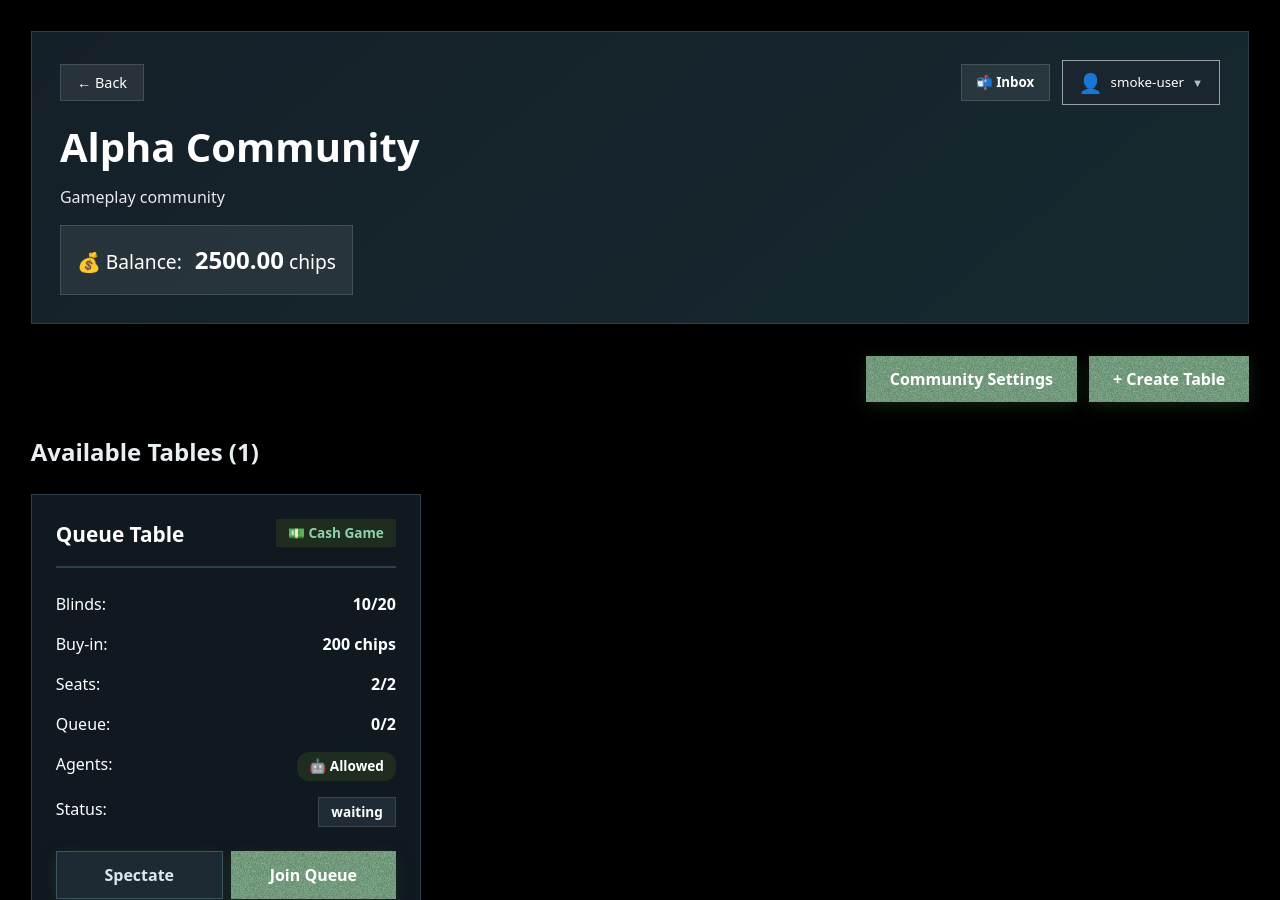
CommunityLobbyPage behavior › opens the queue modal in queue mode and loads queue details
Click the button with test id "join-queue-button": (313, 875) [231,851,396,899]
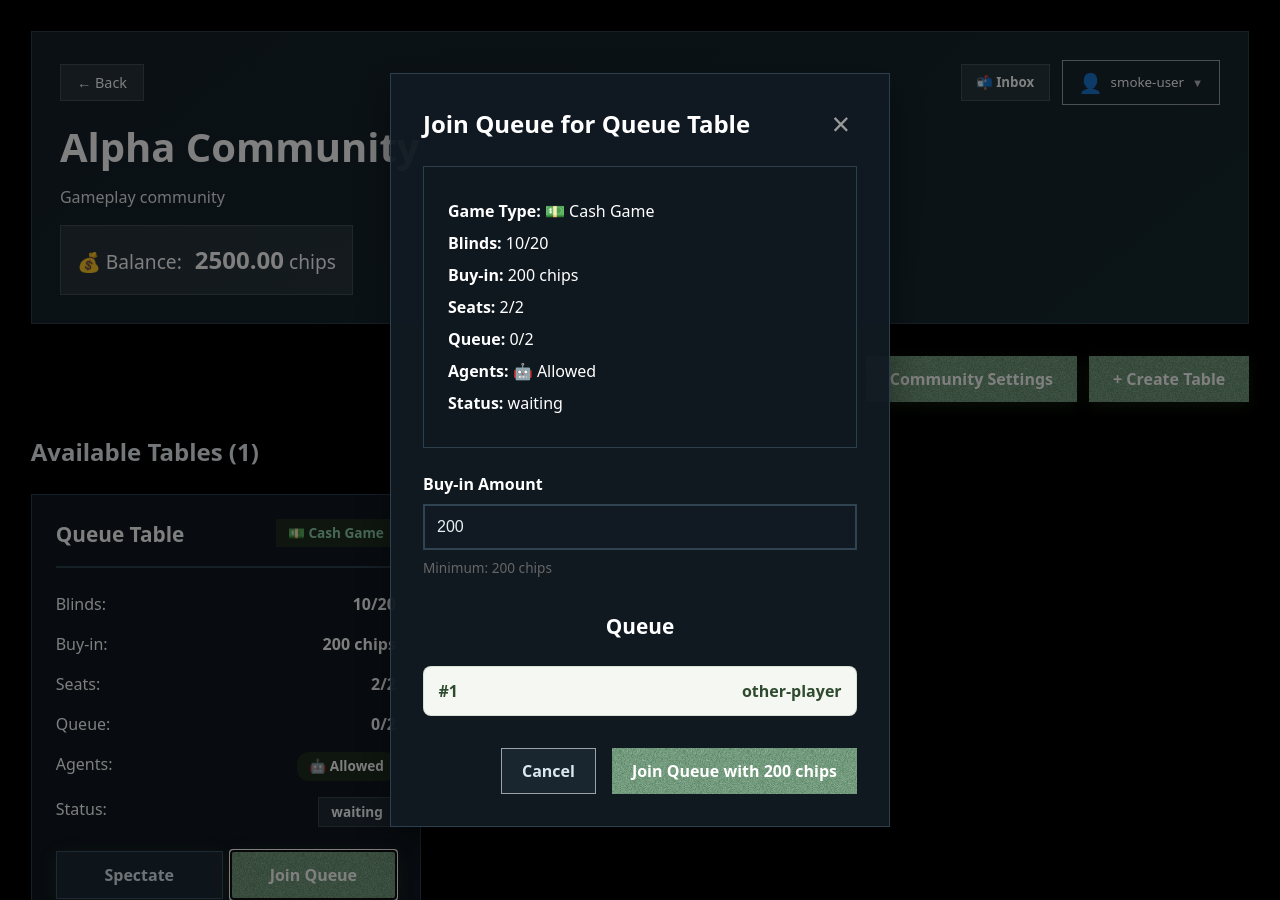
Expected: the heading "Join Queue for Queue Table" is shown, [423,106,750,142]
Expected: the number field with test id "queue-buy-in-input" holds "200", [423,504,857,550]
Expected: the button with test id "confirm-queue-button" is shown, [612,748,857,794]
